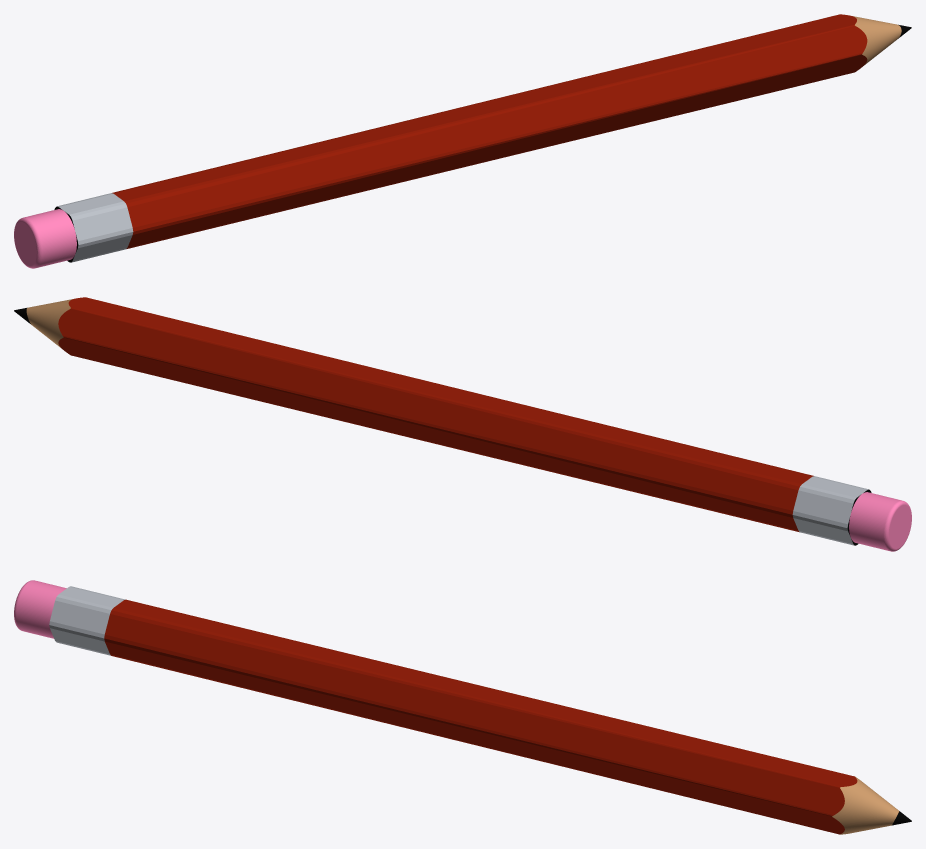
Rendered from pencil.fbx.
3 views of the same model, one above another, from view 1: azimuth 30°, elevation 25°; view 2: azimuth 150°, elevation 25°; view 3: azimuth 330°, elevation 25° (orthographic).
Parts seen in each view (by area): view 1: Pencil, Riubber; view 2: Pencil, Riubber; view 3: Pencil, Riubber.
Boxes of the visible parts, x1,y1,x2,y2 form: Pencil: (54, 14, 911, 262); Riubber: (14, 209, 76, 268); Pencil: (14, 297, 871, 545); Riubber: (849, 492, 911, 551); Pencil: (49, 586, 911, 834); Riubber: (14, 580, 66, 638).
Bounding box in the file's own units: 1543 × 79.05 × 91.27.
